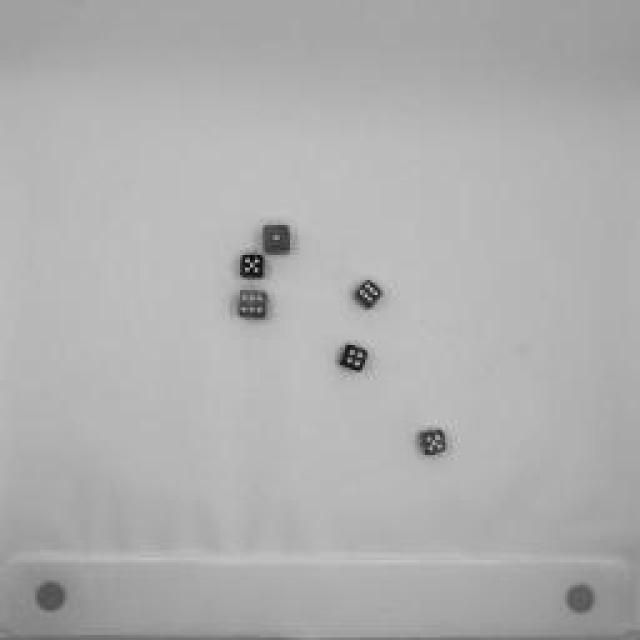dice_1: (260, 222, 295, 256)
dice_4: (336, 339, 374, 376)
dice_5: (416, 424, 454, 461), (236, 249, 272, 286)
dice_6: (347, 274, 385, 314), (236, 287, 274, 325)
